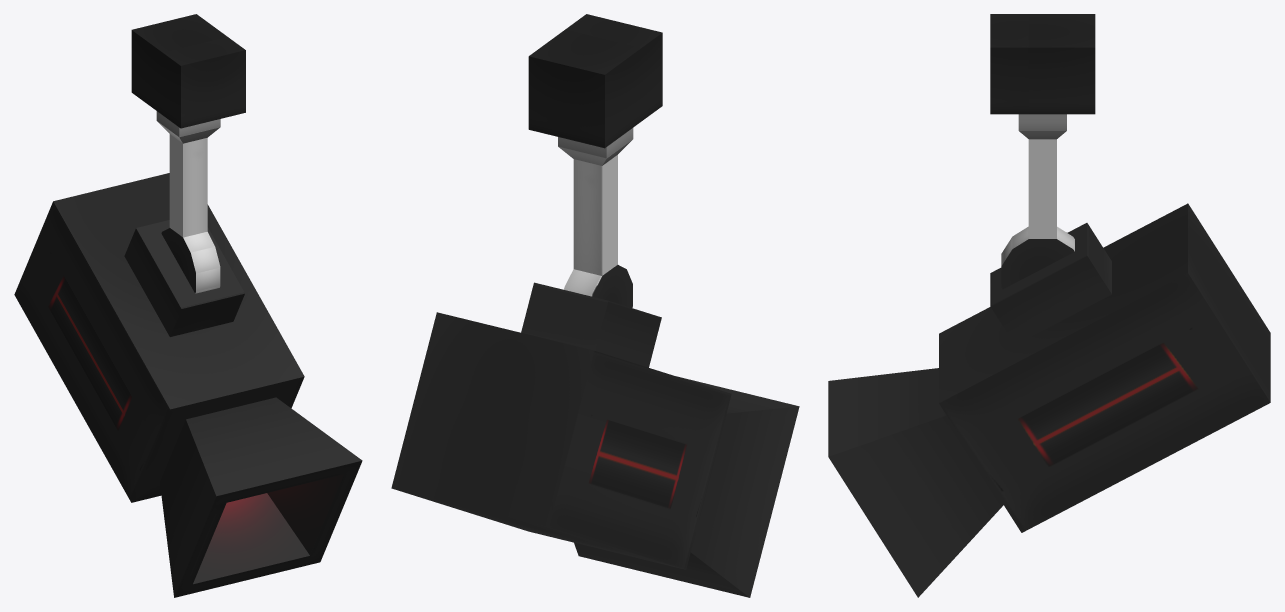
File: CCTV0.FBX
3 views of the same model, side by side, from view 1: azimuth 30°, elevation 25°; view 2: azimuth 150°, elevation 25°; view 3: azimuth 270°, elevation 25° (orthographic). The views are drawn at different scales.
Parts seen in each view (by area): view 1: cctv0; view 2: cctv0; view 3: cctv0.
Boxes of the visible parts, <box> form: cctv0: <box>14,14,362,597</box>; cctv0: <box>391,14,799,597</box>; cctv0: <box>828,14,1270,597</box>.
Size of the model in its own units: 4.97 by 16.13 by 12.23.
1 material, 1 textured.
